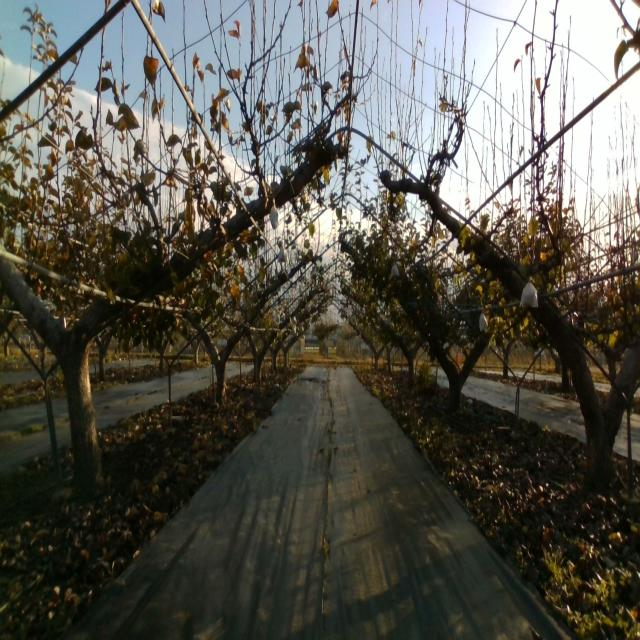pearbags: (520, 276, 538, 308), (270, 198, 280, 230), (278, 244, 288, 263)
